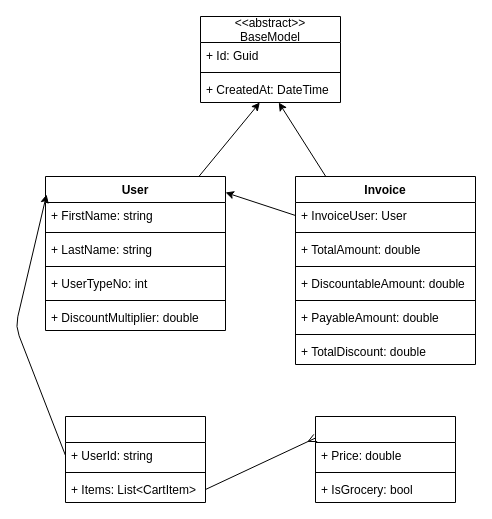
This 492x519 diagram has some shape labels left out. Each missing label, with the box of its shape:
Cart: (64, 416, 206, 502)
CartItem: (314, 416, 456, 502)
